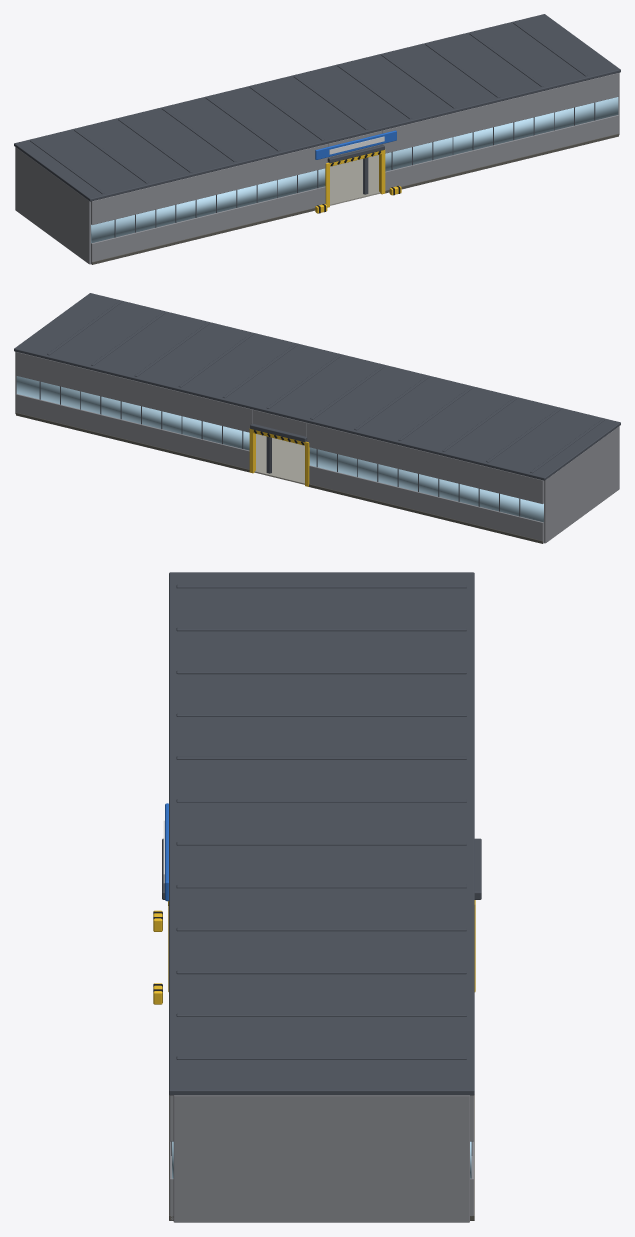
File: FactoryHall.fbx
The picture shows the model from 3 angles, top to bottom: view 1: azimuth 30°, elevation 25°; view 2: azimuth 150°, elevation 25°; view 3: azimuth 270°, elevation 25°; orthographic projection. The views are drawn at different scales.
Parts seen in each view (by area): view 1: Body__MetalDark, Body__Glass, Body__Grey~4, Body__Grey~6, Body__Grey, Body__Grey~3, Body__Grey~5, Body__Concrete, Body__StoneDark, Body__Yellow, Body__MetalDark~2, Body__Blue; view 2: Body__MetalDark, Body__Glass, Body__Grey~9, Body__Grey~11, Body__Grey, Body__Grey~8, Body__Grey~10, Body__Concrete, Body__StoneDark, Body__MetalDark~2, Body__Grey~12, Body__Yellow; view 3: Body__MetalDark, Body__Grey~2, Body__MetalDark~2.
Part boxes in pixels (x1,y1,x2,y2): Body__MetalDark: (14,14,620,237); Body__Glass: (91,97,618,243); Body__Grey~4: (91,144,328,224); Body__Grey~6: (382,73,618,153); Body__Grey: (15,147,90,264); Body__Grey~3: (91,186,325,264); Body__Grey~5: (385,115,618,190); Body__Concrete: (330,155,380,205); Body__StoneDark: (92,133,618,264); Body__Yellow: (315,149,401,213); Body__MetalDark~2: (425,22,587,97); Body__Blue: (315,130,396,159); Body__MetalDark: (14,293,620,516); Body__Glass: (16,376,543,522); Body__Grey~9: (306,423,543,503); Body__Grey~11: (16,352,252,432); Body__Grey: (544,426,619,543); Body__Grey~8: (309,465,543,543); Body__Grey~10: (16,394,249,469); Body__Concrete: (254,434,304,484); Body__StoneDark: (16,412,542,543); Body__MetalDark~2: (47,301,209,376); Body__Grey~12: (252,409,306,436); Body__Yellow: (249,428,309,486); Body__MetalDark: (162,572,481,1155); Body__Grey~2: (173,1095,469,1222); Body__MetalDark~2: (176,970,466,1059).
Bounding box in the file's own units: 78.6 × 10 × 21.06.
